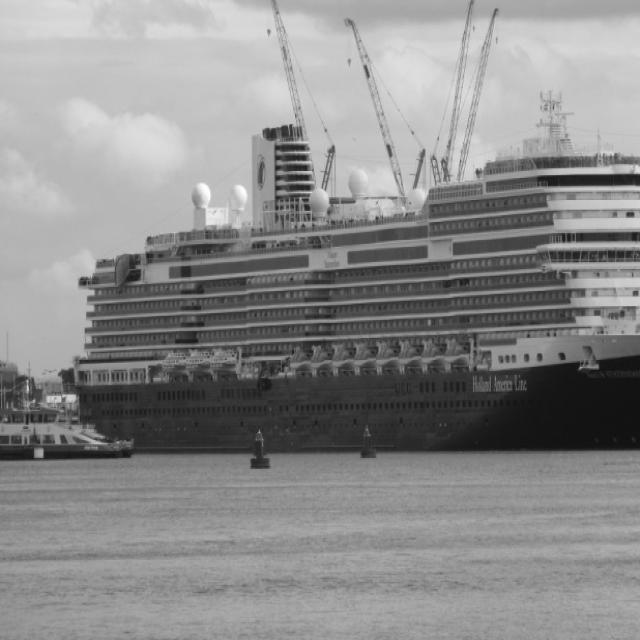cruises: (67, 87, 640, 473)
